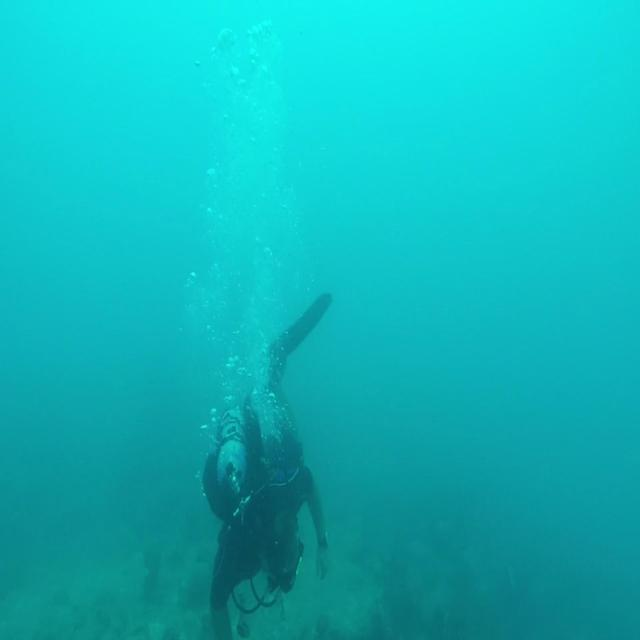human: (200, 290, 333, 638)
